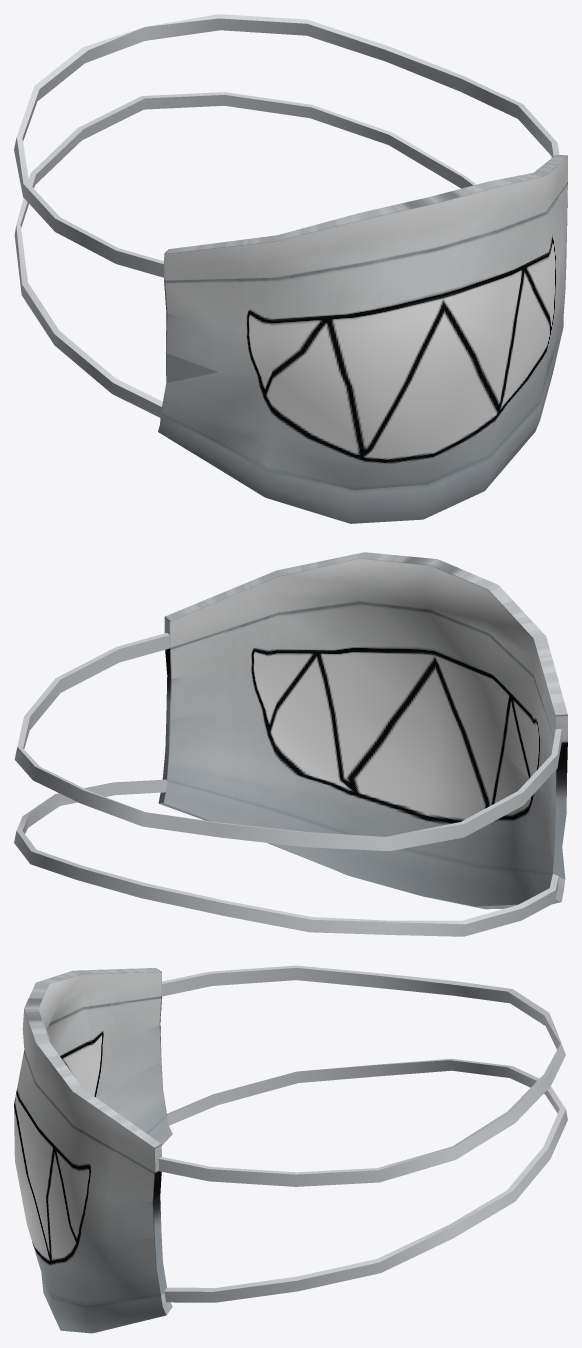
Rendered from FaceFront.fbx.
3 views of the same model, one above another, from view 1: azimuth 30°, elevation 25°; view 2: azimuth 150°, elevation 25°; view 3: azimuth 270°, elevation 25° (orthographic). The views are drawn at different scales.
Visible parts, largest first — view 1: Slender_Mask_Acc; view 2: Slender_Mask_Acc; view 3: Slender_Mask_Acc.
Boxes of the visible parts, x1,y1,x2,y2 form: Slender_Mask_Acc: (14,14,567,523); Slender_Mask_Acc: (14,552,567,936); Slender_Mask_Acc: (14,965,567,1333).
Size of the model in its own units: 0.7065 by 0.4722 by 0.7906.
Materials: 1 (1 with a texture image).
